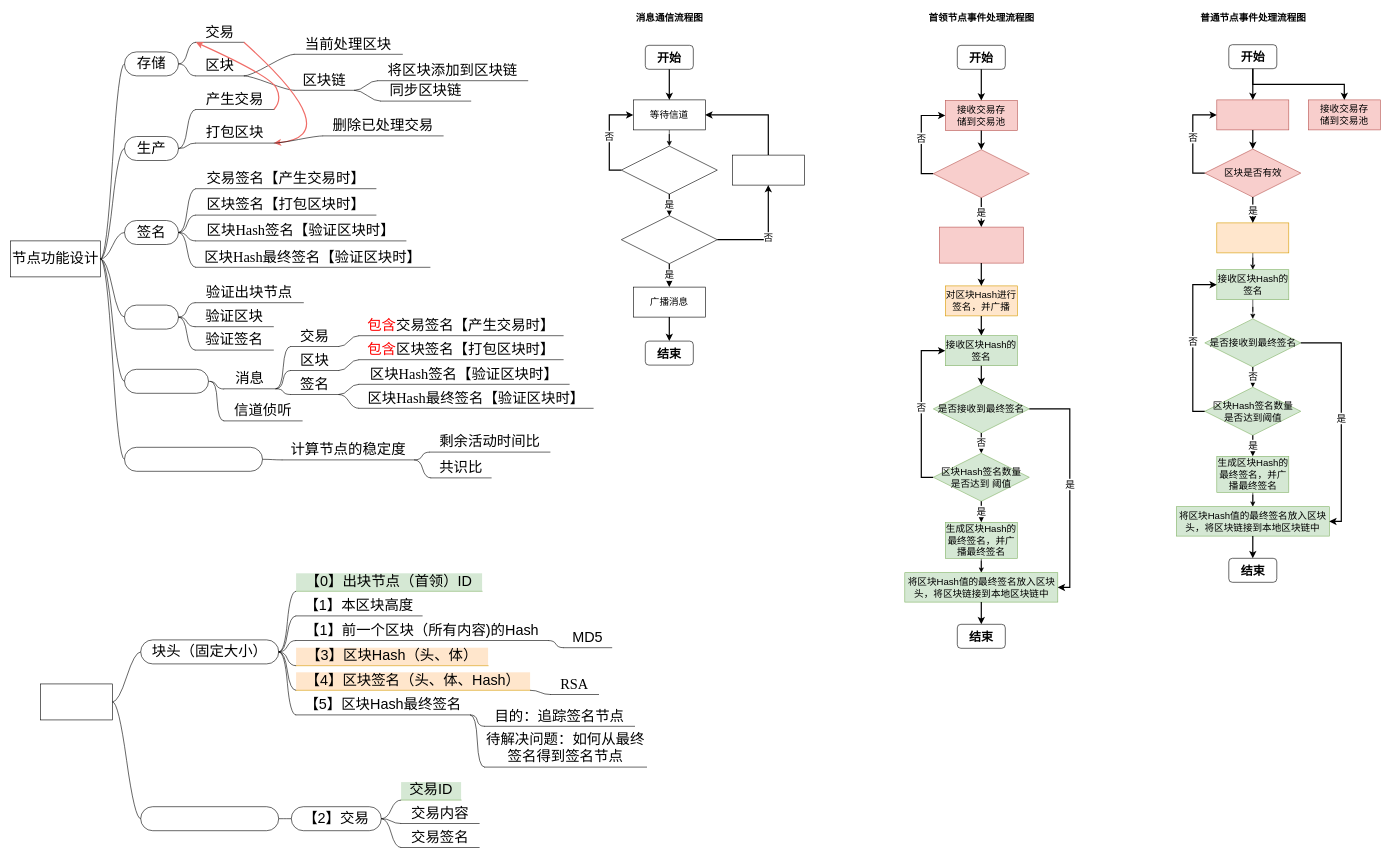
This 1391x858 diagram has some shape labels left out. Each missing label, with the centre of its shape:
"交易数量是否 达到最低阈值" belongs at point 981,173.
"信道是否空闲" belongs at point 669,239.
"区块结构" belongs at point 76,701.
"块体（固定大小）" belongs at point 209,818.
"对区块Hash的进行签名，并广播" belongs at point 1252,237.
"打包交易生成区块，计算区块的Hash，并广播区块" belongs at point 981,244.
"接收区块" belongs at point 1252,114.
"收发消息" belongs at point 166,381.
"退避一段时间" belongs at point 768,169.
"退避等待时间 是否结束" belongs at point 669,170.
"选择委员会和首领" belongs at point 193,459.
"验证" belongs at point 151,316.
